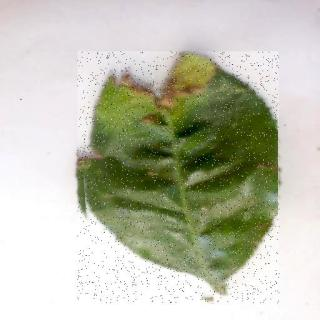Algal Leaf: (79, 53, 281, 305)
